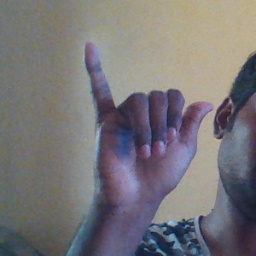J: (82, 40, 218, 196)
